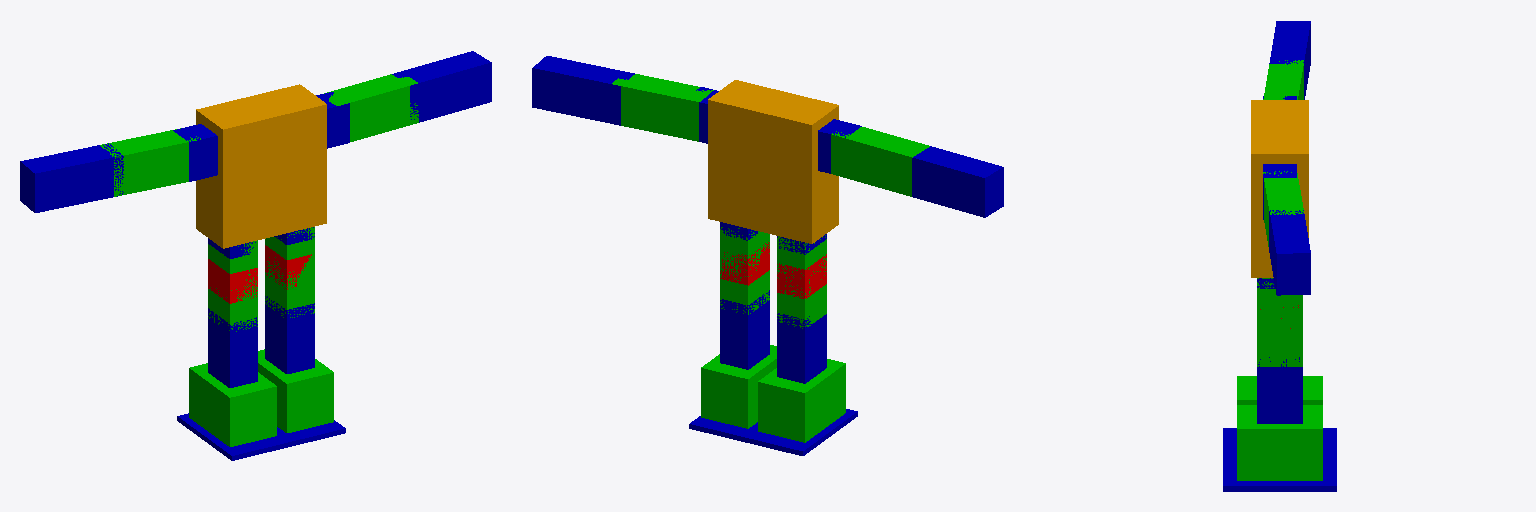
URDF robot description (awesome-o):
<?xml version="1.0" ?>
<!-- =================================================================================== -->
<!-- |    This document was autogenerated by xacro from TypeA.urdf.xacro               | -->
<!-- |    EDITING THIS FILE BY HAND IS NOT RECOMMENDED                                 | -->
<!-- =================================================================================== -->
<robot name="awesome-o" xmlns:xacro="http://www.ros.org/wiki/xacro">
  <link name="base_link">
    <visual>
      <geometry>
        <box size="0.11 0.05 0.12"/>
      </geometry>
    </visual>
  </link>
  <link name="R_shoulder">
    <visual>
      <geometry>
        <box size="0.03 0.04 0.03"/>
      </geometry>
      <origin rpy="0 0 0" xyz="0 0 0"/>
      <material name="blue">
        <color rgba="0 0 .8 1"/>
      </material>
    </visual>
  </link>
  <joint name="R_SAA" type="revolute">
    <parent link="base_link"/>
    <child link="R_shoulder"/>
    <origin rpy="1.57079632679 0 0" xyz="0.07 0 0.03"/>
    <axis xyz="1 0 0"/>
    <limit effort="1000.0" lower="-3.1415926536" upper="3.1354567304" velocity="1.0"/>
  </joint>
  <link name="R_upper_arm">
    <visual>
      <geometry>
        <box size="0.03 0.04 0.09"/>
      </geometry>
      <material name="green">
        <color rgba="0 0.8 0 1"/>
      </material>
      <origin rpy="0 0 0" xyz="0 0 -0.045"/>
    </visual>
  </link>
  <joint name="R_SFE" type="revolute">
    <parent link="R_shoulder"/>
    <child link="R_upper_arm"/>
    <origin rpy="0 -1.5 0" xyz="0.00 0 0.0"/>
    <axis xyz="0 -1 0"/>
    <limit effort="1000.0" lower="-2.0371264863" upper="1.8898643307" velocity="1.0"/>
  </joint>
  <link name="R_forearm">
    <visual>
      <geometry>
        <box size="0.03 0.04 0.09"/>
      </geometry>
      <material name="blue"/>
      <origin rpy="0 0 0" xyz="0 0 -0.045"/>
    </visual>
  </link>
  <joint name="R_EB" type="revolute">
    <parent link="R_upper_arm"/>
    <child link="R_forearm"/>
    <origin rpy="0 0 0" xyz="0.00 0 -0.08"/>
    <axis xyz="0 -1 0"/>
    <limit effort="1000.0" lower="-2.1291653336" upper="2.1353012567" velocity="1.0"/>
  </joint>
  <link name="L_shoulder">
    <visual>
      <geometry>
        <box size="0.03 0.04 0.03"/>
      </geometry>
      <origin rpy="0 0 0" xyz="0 0 0"/>
      <material name="blue">
        <color rgba="0 0 .8 1"/>
      </material>
    </visual>
  </link>
  <joint name="L_SAA" type="revolute">
    <parent link="base_link"/>
    <child link="L_shoulder"/>
    <origin rpy="1.57079632679 0 0" xyz="-0.07 0 0.03"/>
    <axis xyz="-1 0 0"/>
    <limit effort="1000.0" lower="-3.1415926536" upper="3.1354567304" velocity="1.0"/>
  </joint>
  <link name="L_upper_arm">
    <visual>
      <geometry>
        <box size="0.03 0.04 0.09"/>
      </geometry>
      <material name="green">
        <color rgba="0 0.8 0 1"/>
      </material>
      <origin rpy="0 0 0" xyz="0 0 -0.045"/>
    </visual>
  </link>
  <joint name="L_SFE" type="revolute">
    <parent link="L_shoulder"/>
    <child link="L_upper_arm"/>
    <origin rpy="0 1.5 0" xyz="0.00 0 0.0"/>
    <axis xyz="0 -1 0"/>
    <limit effort="1000.0" lower="-1.9144080233" upper="1.9512235622" velocity="1.0"/>
  </joint>
  <link name="L_forearm">
    <visual>
      <geometry>
        <box size="0.03 0.04 0.09"/>
      </geometry>
      <material name="blue"/>
      <origin rpy="0 0 0" xyz="0 0 -0.045"/>
    </visual>
  </link>
  <joint name="L_EB" type="revolute">
    <parent link="L_upper_arm"/>
    <child link="L_forearm"/>
    <origin rpy="0 0 0" xyz="0.00 0 -0.08"/>
    <axis xyz="0 -1 0"/>
    <limit effort="1000.0" lower="-2.0984857178" upper="2.0739420252" velocity="1.0"/>
  </joint>
  <link name="R_hip">
    <visual>
      <geometry>
        <box size="0.03 0.04 0.03"/>
      </geometry>
      <origin rpy="0 0 0" xyz="0 0 0"/>
      <material name="blue">
        <color rgba="0 0 .8 1"/>
      </material>
    </visual>
  </link>
  <joint name="R_HAA" type="revolute">
    <parent link="base_link"/>
    <child link="R_hip"/>
    <origin rpy="0 0 0" xyz="0.03 0 -0.06"/>
    <axis xyz="0 0 -1"/>
    <limit effort="1000.0" lower="-2.1966604883" upper="0.5645049299" velocity="1.0"/>
  </joint>
  <link name="R_hip_split">
    <visual>
      <geometry>
        <box size="0.03 0.04 0.03"/>
      </geometry>
      <material name="red">
        <color rgba="1 0 0 1"/>
      </material>
      <origin rpy="0 0 0" xyz="0 0 -0.045"/>
    </visual>
  </link>
  <joint name="R_HR" type="revolute">
    <parent link="R_hip"/>
    <child link="R_hip_split"/>
    <origin rpy="0 0 0" xyz="0 0 0"/>
    <axis xyz="0 1 0"/>
    <limit effort="1000.0" lower="-1.4848934027" upper="0.9694758579" velocity="1.0"/>
  </joint>
  <link name="R_upper_leg">
    <visual>
      <geometry>
        <box size="0.03 0.04 0.09"/>
      </geometry>
      <material name="green"/>
      <origin rpy="0 0 0" xyz="0 0 -0.045"/>
    </visual>
  </link>
  <joint name="R_HFE" type="revolute">
    <parent link="R_hip_split"/>
    <child link="R_upper_leg"/>
    <origin rpy="0 0 0" xyz="0 0 0"/>
    <axis xyz="-1.0 0 0"/>
    <limit effort="1000.0" lower="-2.712078033" upper="0.7240389319" velocity="1.0"/>
  </joint>
  <link name="R_calf">
    <visual>
      <geometry>
        <box size="0.03 0.04 0.09"/>
      </geometry>
      <material name="blue"/>
      <origin rpy="0 0 0" xyz="0 0 -0.045"/>
    </visual>
  </link>
  <joint name="R_KFE" type="revolute">
    <parent link="R_upper_leg"/>
    <child link="R_calf"/>
    <origin rpy="0 0 0" xyz="0 0 -0.08"/>
    <axis xyz="1.0 0 0"/>
    <limit effort="1000.0" lower="-2.5280003384" upper="0.0490873852" velocity="1.0"/>
  </joint>
  <link name="R_foot">
    <visual>
      <geometry>
        <box size="0.05 0.075 0.05"/>
      </geometry>
      <material name="green"/>
      <origin rpy="0 0 0" xyz="0 0 -0.045"/>
    </visual>
  </link>
  <joint name="R_AFE" type="revolute">
    <parent link="R_calf"/>
    <child link="R_foot"/>
    <origin rpy="0 0 0" xyz="0 0 -0.045"/>
    <axis xyz="1 0 0"/>
    <limit effort="1000.0" lower="-0.5031456984" upper="2.0739420252" velocity="1.0"/>
  </joint>
  <link name="R_foot_pad">
    <visual>
      <geometry>
        <box size="0.06 0.10 0.005"/>
      </geometry>
      <material name="blue"/>
      <origin rpy="0 0 0" xyz="0 0 -0.045"/>
    </visual>
  </link>
  <joint name="R_AR" type="revolute">
    <parent link="R_foot"/>
    <child link="R_foot_pad"/>
    <origin rpy="0 0 0" xyz="0 0 -0.03"/>
    <axis xyz="0 -1 0"/>
    <limit effort="1000.0" lower="-1.0246991663" upper="1.3989904786" velocity="1.0"/>
  </joint>
  <link name="L_hip">
    <visual>
      <geometry>
        <box size="0.03 0.04 0.03"/>
      </geometry>
      <origin rpy="0 0 0" xyz="0 0 0"/>
      <material name="blue">
        <color rgba="0 0 .8 1"/>
      </material>
    </visual>
  </link>
  <joint name="L_HAA" type="revolute">
    <parent link="base_link"/>
    <child link="L_hip"/>
    <origin rpy="0 0 0" xyz="-0.03 0 -0.06"/>
    <axis xyz="0 0 -1"/>
    <limit effort="1000.0" lower="-1.2640001692" upper="2.1905245651" velocity="1.0"/>
  </joint>
  <link name="L_hip_split">
    <visual>
      <geometry>
        <box size="0.03 0.04 0.03"/>
      </geometry>
      <material name="red">
        <color rgba="1 0 0 1"/>
      </material>
      <origin rpy="0 0 0" xyz="0 0 -0.045"/>
    </visual>
  </link>
  <joint name="L_HR" type="revolute">
    <parent link="L_hip"/>
    <child link="L_hip_split"/>
    <origin rpy="0 0 0" xyz="0 0 0"/>
    <axis xyz="0 1 0"/>
    <limit effort="1000.0" lower="-0.9940195505" upper="1.4603497101" velocity="1.0"/>
  </joint>
  <link name="L_upper_leg">
    <visual>
      <geometry>
        <box size="0.03 0.04 0.09"/>
      </geometry>
      <material name="green"/>
      <origin rpy="0 0 0" xyz="0 0 -0.045"/>
    </visual>
  </link>
  <joint name="L_HFE" type="revolute">
    <parent link="L_hip_split"/>
    <child link="L_upper_leg"/>
    <origin rpy="0 0 0" xyz="0 0 0"/>
    <axis xyz="1.0 0 0"/>
    <limit effort="1000.0" lower="-0.5645049299" upper="2.6875343404" velocity="1.0"/>
  </joint>
  <link name="L_calf">
    <visual>
      <geometry>
        <box size="0.03 0.04 0.09"/>
      </geometry>
      <material name="blue"/>
      <origin rpy="0 0 0" xyz="0 0 -0.045"/>
    </visual>
  </link>
  <joint name="L_KFE" type="revolute">
    <parent link="L_upper_leg"/>
    <child link="L_calf"/>
    <origin rpy="0 0 0" xyz="0 0 -0.08"/>
    <axis xyz="-1.0 0 0"/>
    <limit effort="1000.0" lower="-0.0736310778" upper="2.0739420252" velocity="1.0"/>
  </joint>
  <link name="L_foot">
    <visual>
      <geometry>
        <box size="0.05 0.075 0.05"/>
      </geometry>
      <material name="green"/>
      <origin rpy="0 0 0" xyz="0 0 -0.045"/>
    </visual>
  </link>
  <joint name="L_AFE" type="revolute">
    <parent link="L_calf"/>
    <child link="L_foot"/>
    <origin rpy="0 0 0" xyz="0 0 -0.045"/>
    <axis xyz="-1 0 0"/>
    <limit effort="1000.0" lower="-2.0862138715" upper="0.5215534679" velocity="1.0"/>
  </joint>
  <link name="L_foot_pad">
    <visual>
      <geometry>
        <box size="0.06 0.10 0.005"/>
      </geometry>
      <material name="blue"/>
      <origin rpy="0 0 0" xyz="0 0 -0.045"/>
    </visual>
  </link>
  <joint name="L_AR" type="revolute">
    <parent link="L_foot"/>
    <child link="L_foot_pad"/>
    <origin rpy="0 0 0" xyz="0 0 -0.03"/>
    <axis xyz="0 -1 0"/>
    <limit effort="1000.0" lower="-1.1167380136" upper="1.1228739367" velocity="1.0"/>
  </joint>
</robot>

--- What the picture shows (computed from the rendered views, not written in the file) ---
The picture shows the robot from 3 angles, left to right: view 1: azimuth 30°, elevation 25°; view 2: azimuth 150°, elevation 25°; view 3: azimuth 270°, elevation 25°; orthographic projection.
Model awesome-o with 19 links and 18 joints (18 revolute), rooted at base_link, posed all joints at 0.
Visible links, largest first — view 1: base_link, L_foot, L_forearm, R_forearm, L_upper_arm, R_foot, R_upper_arm, R_calf, L_calf, R_upper_leg, L_upper_leg, L_shoulder (+5 smaller); view 2: base_link, L_foot, L_forearm, R_forearm, L_upper_arm, R_upper_arm, R_foot, R_calf, L_calf, R_upper_leg, L_upper_leg, L_foot_pad (+4 smaller); view 3: base_link, R_foot, R_upper_leg, R_forearm, R_calf, R_foot_pad, L_forearm, R_upper_arm, L_upper_arm, L_foot, L_foot_pad.
Boxes of the visible links, box(x1,y1,x2,y2) form: base_link: box(196, 84, 326, 248); L_foot: box(189, 363, 276, 446); L_forearm: box(20, 143, 123, 212); R_forearm: box(392, 51, 491, 122); L_upper_arm: box(100, 128, 200, 196); R_foot: box(258, 349, 333, 432); R_upper_arm: box(324, 74, 418, 141); R_calf: box(265, 296, 314, 373); L_calf: box(208, 308, 257, 387); R_upper_leg: box(265, 227, 314, 317); L_upper_leg: box(208, 240, 257, 331); L_shoulder: box(173, 124, 217, 181); base_link: box(708, 80, 838, 243); L_foot: box(758, 359, 845, 442); L_forearm: box(912, 146, 1003, 217); R_forearm: box(532, 56, 634, 125); L_upper_arm: box(831, 127, 929, 196); R_upper_arm: box(612, 74, 713, 141); R_foot: box(701, 345, 776, 428); R_calf: box(720, 290, 769, 369); L_calf: box(777, 313, 826, 383); R_upper_leg: box(720, 227, 769, 314); L_upper_leg: box(777, 235, 826, 328); L_foot_pad: box(746, 409, 857, 455); base_link: box(1251, 100, 1308, 277); R_foot: box(1237, 405, 1322, 480); R_upper_leg: box(1257, 278, 1302, 366); R_forearm: box(1269, 210, 1310, 295); R_calf: box(1257, 357, 1302, 423); R_foot_pad: box(1223, 457, 1336, 491); L_forearm: box(1269, 21, 1310, 99); R_upper_arm: box(1263, 171, 1303, 246); L_upper_arm: box(1263, 60, 1303, 99); L_foot: box(1237, 376, 1322, 404); L_foot_pad: box(1223, 428, 1336, 456).
Size in the robot's own frame: 0.4813 by 0.1 by 0.3225 metres.
Geometry: primitives only (box / cylinder / sphere), no mesh files.